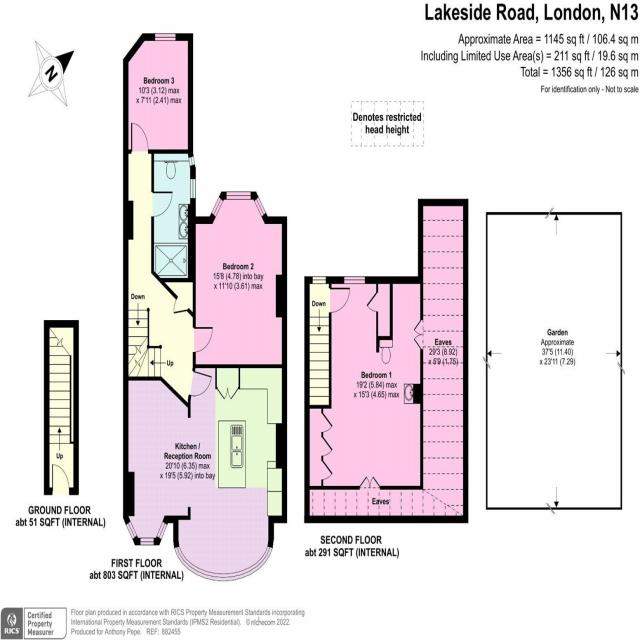DOOR: (192, 323, 216, 356), (188, 368, 214, 398), (130, 120, 150, 154), (151, 189, 174, 218), (329, 286, 352, 315)
ROOM: (123, 362, 287, 582), (304, 276, 424, 490), (193, 191, 288, 369), (124, 33, 194, 154)
WINDOW: (173, 544, 275, 584), (153, 29, 178, 44), (210, 195, 224, 220), (253, 195, 267, 218), (125, 519, 138, 541), (155, 520, 168, 541), (226, 191, 251, 201), (343, 274, 366, 284), (189, 177, 197, 199), (140, 536, 155, 547), (311, 275, 327, 285), (188, 154, 196, 167)
